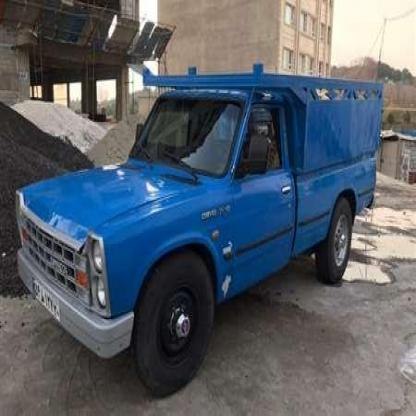Car: (17, 53, 388, 395)
